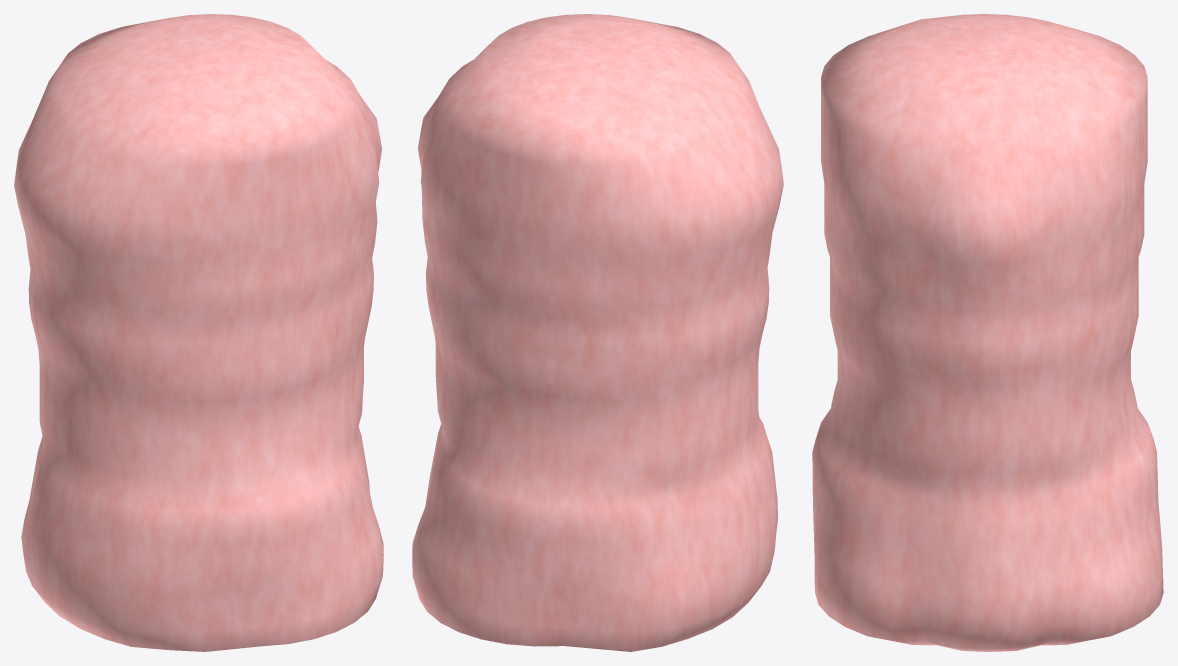
The model's file is Inside Epi Cell.fbx.
3 views of the same model, side by side, from view 1: azimuth 30°, elevation 25°; view 2: azimuth 150°, elevation 25°; view 3: azimuth 270°, elevation 25° (orthographic).
Visible parts, largest first — view 1: Epithelial Cell Container (Terrain); view 2: Epithelial Cell Container (Terrain); view 3: Epithelial Cell Container (Terrain).
Boxes of the visible parts, <box> form: Epithelial Cell Container (Terrain): <box>14,14,383,651</box>; Epithelial Cell Container (Terrain): <box>412,14,783,651</box>; Epithelial Cell Container (Terrain): <box>812,14,1163,651</box>.
Bounding box in the file's own units: 229 × 204 × 364.
1 material, 1 textured.
